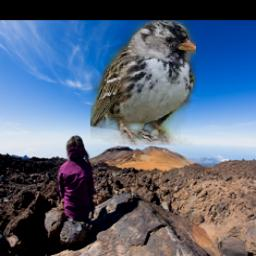Sparrow: (92, 20, 197, 146)
